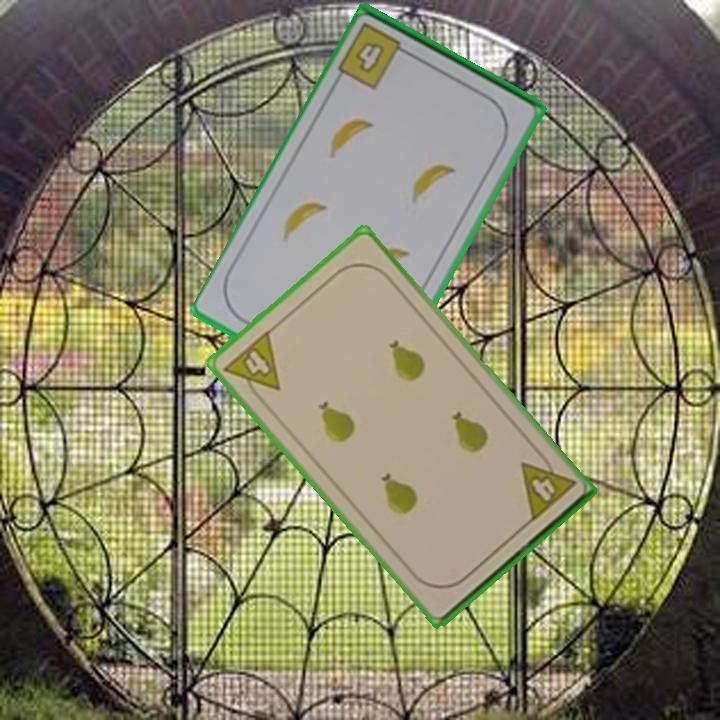4b: (335, 19, 416, 92)
4p: (220, 326, 283, 407), (516, 447, 579, 525)
